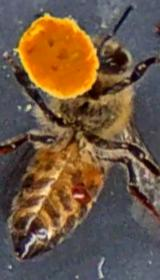varroa_mite: (68, 179, 92, 208)
